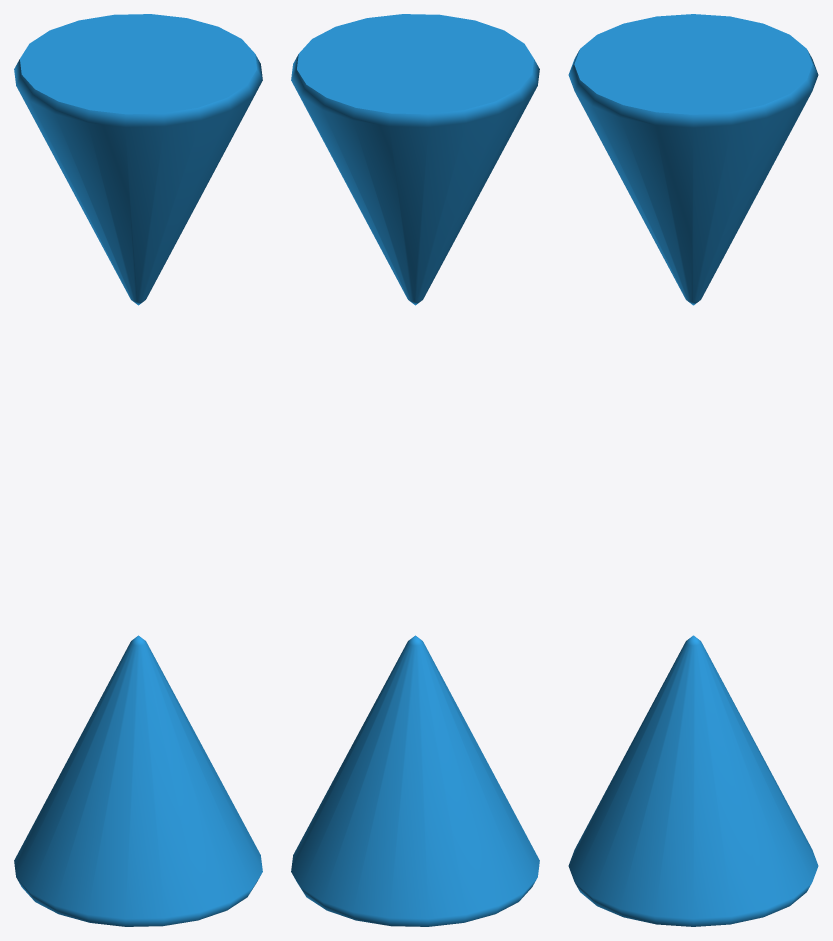
The model's file is mesh_double_cone_sm.fbx.
The picture shows the model from 3 angles, left to right: view 1: azimuth 30°, elevation 25°; view 2: azimuth 150°, elevation 25°; view 3: azimuth 270°, elevation 25°; orthographic projection.
Parts seen in each view (by area): view 1: pCylinder5; view 2: pCylinder5; view 3: pCylinder5.
Part boxes in pixels (x1,y1,x2,y2): pCylinder5: (14, 14, 262, 926); pCylinder5: (291, 14, 539, 926); pCylinder5: (568, 14, 818, 926).
Size of the model in its own units: 48.63 by 174 by 48.63.
